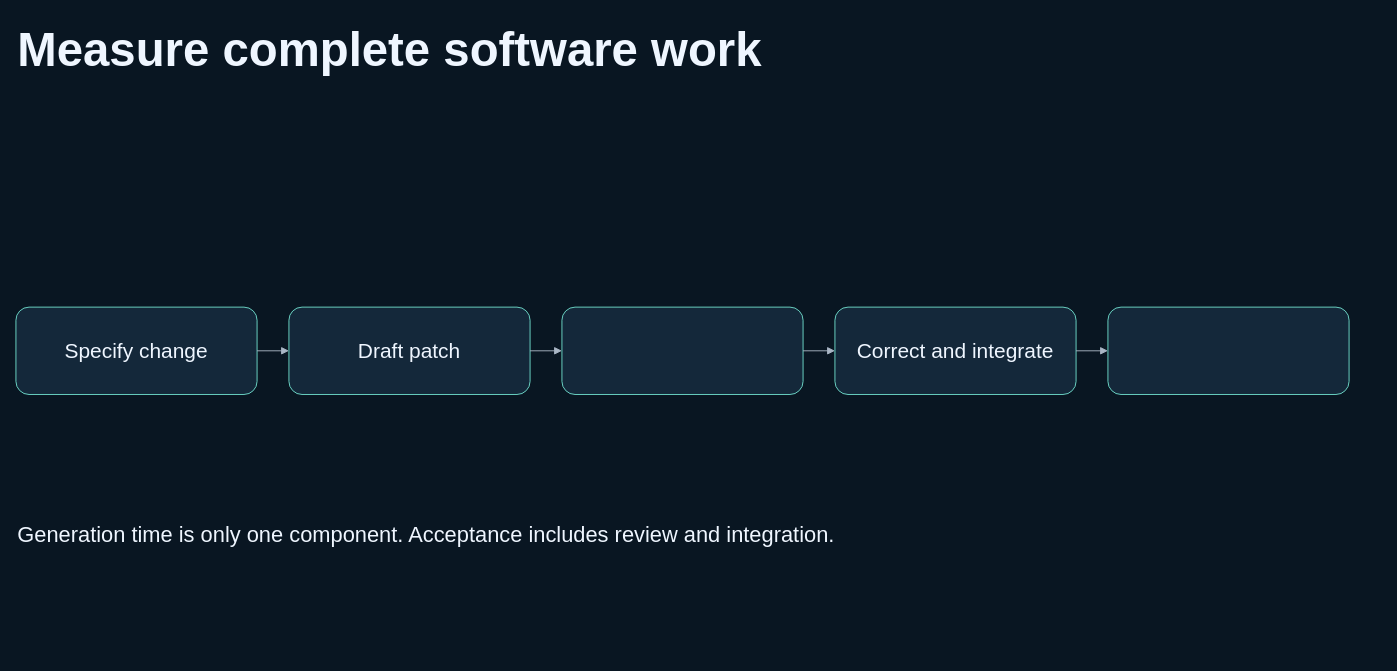
This 1397x671 diagram has some shape labels left out. The shapes that lost their labels are listed below. From the top down, each one's centre as x and y in pixels, then its label:
At point (682, 350): "Test and inspect".
At point (1228, 350): "Measure total outcome".
